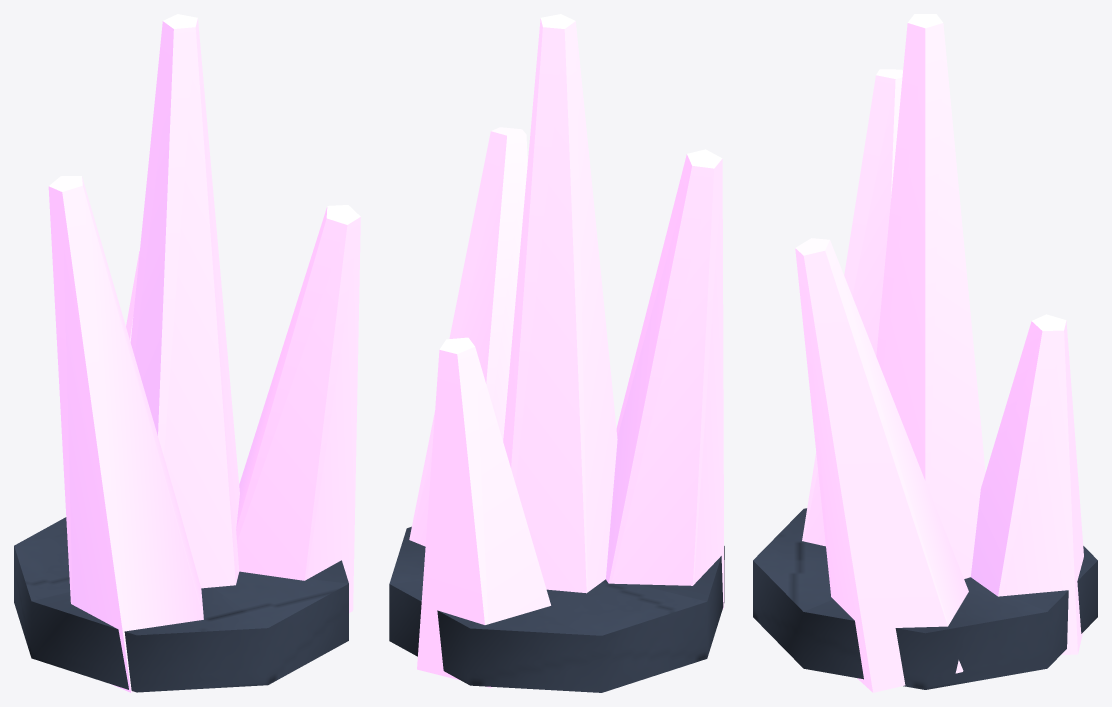
Rendered from specimen_placeholder.glb.
The picture shows the model from 3 angles, left to right: view 1: azimuth 30°, elevation 25°; view 2: azimuth 150°, elevation 25°; view 3: azimuth 270°, elevation 25°; orthographic projection.
Visible parts, largest first — view 1: DL013_SpecimenPlaceholder_emissive_violet, DL013_SpecimenPlaceholder_graphite_navy; view 2: DL013_SpecimenPlaceholder_emissive_violet, DL013_SpecimenPlaceholder_graphite_navy; view 3: DL013_SpecimenPlaceholder_emissive_violet, DL013_SpecimenPlaceholder_graphite_navy.
Boxes of the visible parts, x1,y1,x2,y2 form: DL013_SpecimenPlaceholder_emissive_violet: (48, 14, 360, 692); DL013_SpecimenPlaceholder_graphite_navy: (14, 517, 348, 692); DL013_SpecimenPlaceholder_emissive_violet: (409, 14, 724, 687); DL013_SpecimenPlaceholder_graphite_navy: (389, 526, 724, 692); DL013_SpecimenPlaceholder_emissive_violet: (795, 14, 1083, 692); DL013_SpecimenPlaceholder_graphite_navy: (753, 508, 1097, 689).
Bounding box in the file's own units: 0.22 × 0.4263 × 0.22.
Materials: 2 (1 with a texture image).
